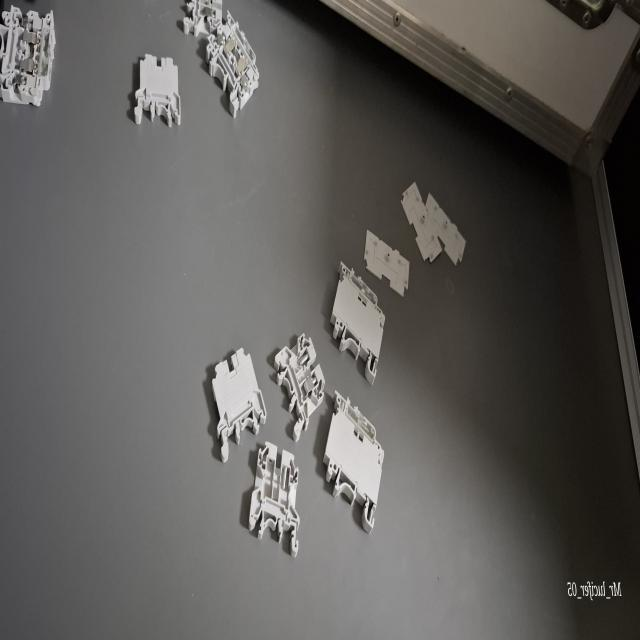Inverted: (198, 314, 266, 459), (131, 51, 182, 130)
Reject: (238, 444, 306, 556), (268, 309, 326, 440)
